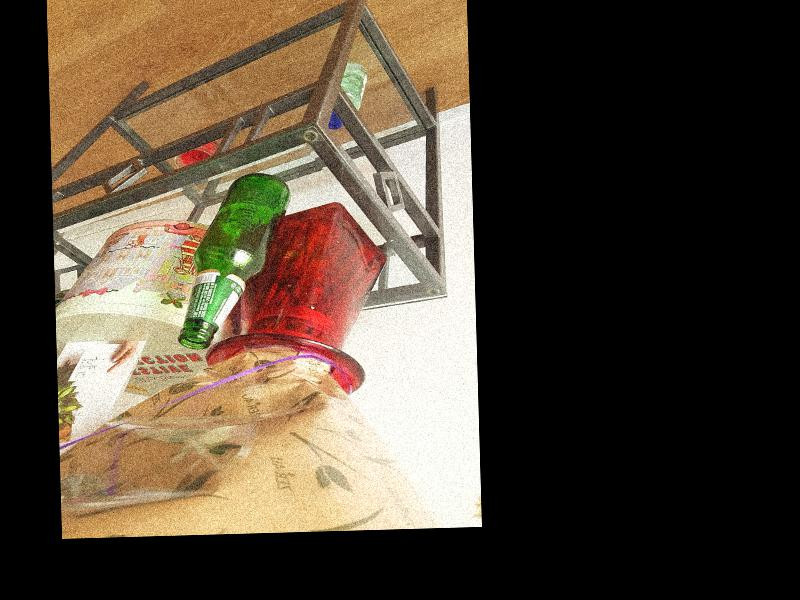Beer: (175, 172, 294, 350)
